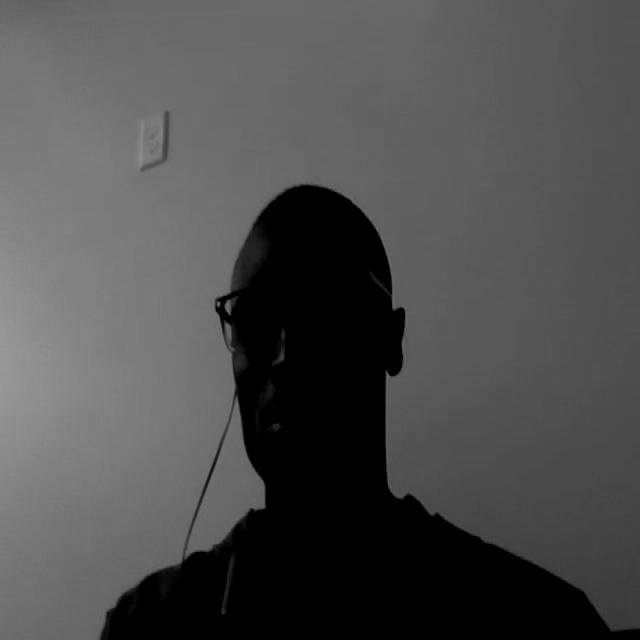real: (213, 182, 405, 508)
